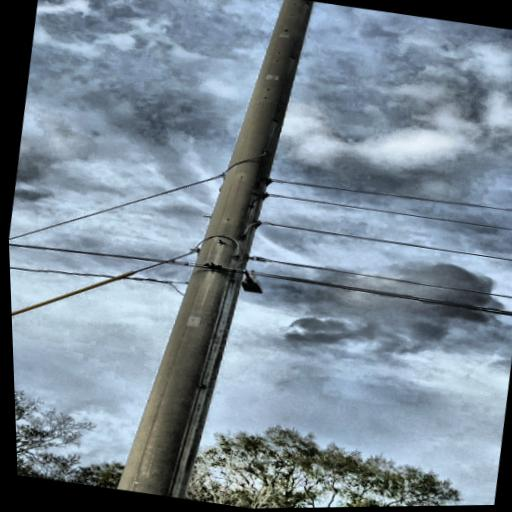pole: (52, 0, 362, 511)
